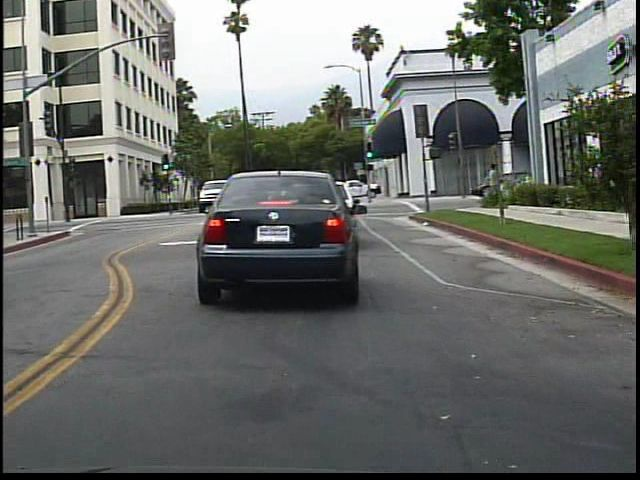person: (475, 159, 505, 208)
